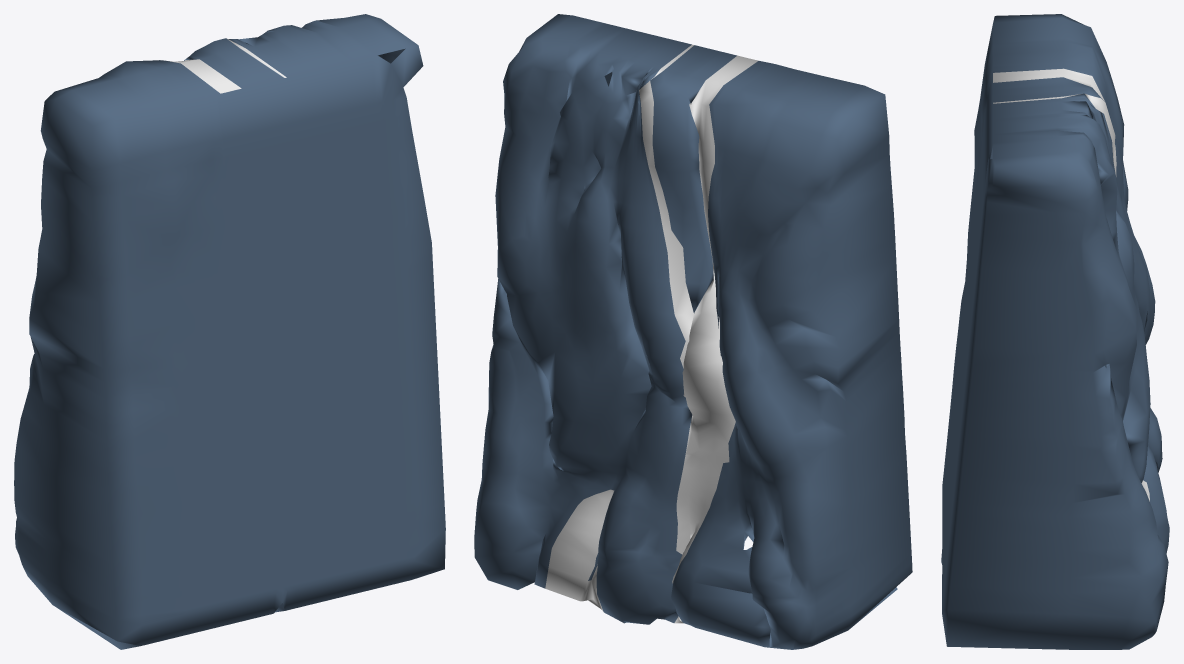
Rendered from Wall.Basic_Gem01.dae.
The picture shows the model from 3 angles, left to right: view 1: azimuth 30°, elevation 25°; view 2: azimuth 150°, elevation 25°; view 3: azimuth 270°, elevation 25°; orthographic projection. The views are drawn at different scales.
Visible parts, largest first — view 1: Plane.001; view 2: Plane.001; view 3: Plane.001.
Boxes of the visible parts, left/top/right/bottom form: Plane.001: left=14, top=14, right=445, bottom=649; Plane.001: left=474, top=14, right=912, bottom=649; Plane.001: left=941, top=14, right=1169, bottom=649.
Size of the model in its own units: 12.87 by 7.83 by 18.66.
